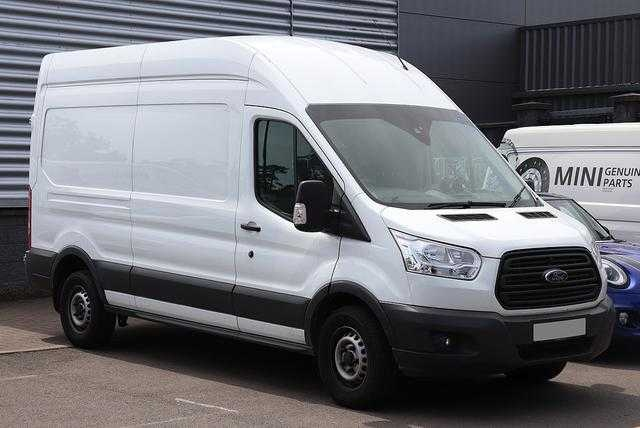van: (25, 33, 617, 411)
